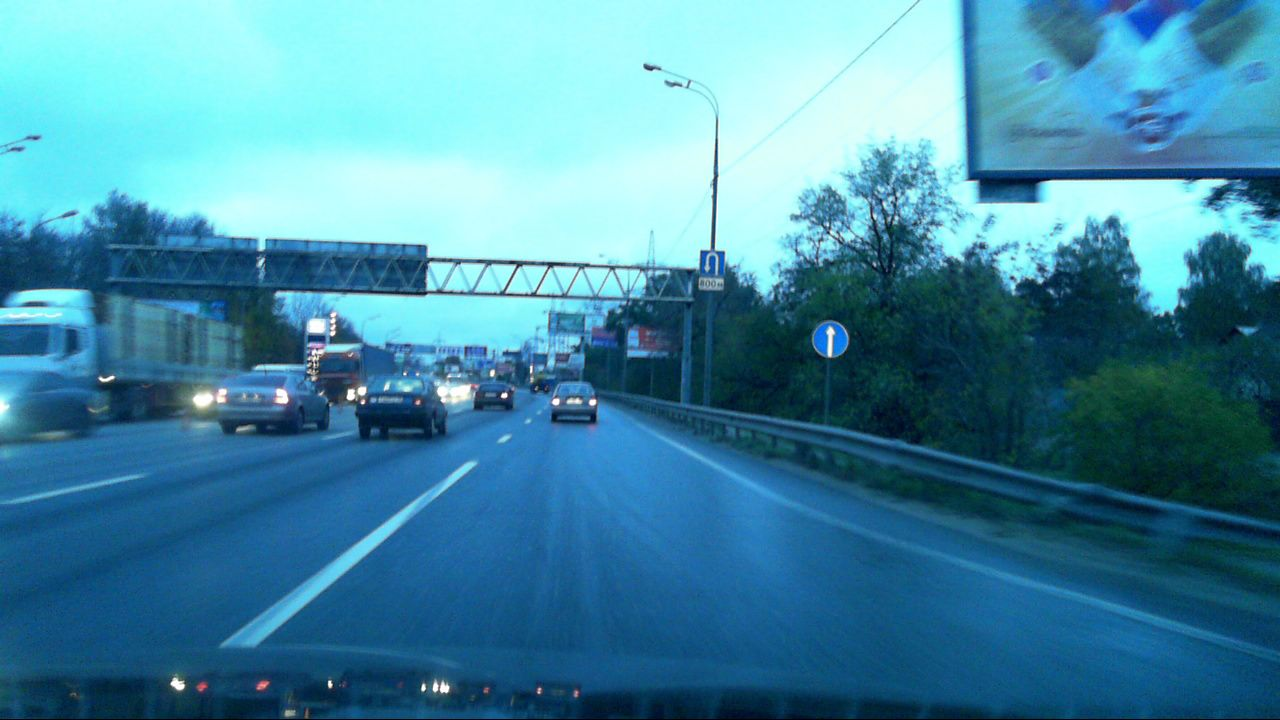U-turn: (700, 250, 725, 277)
